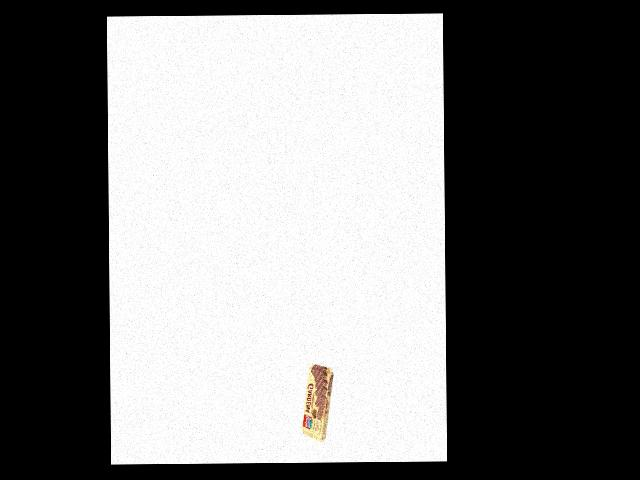chocolate: (300, 359, 331, 445)
